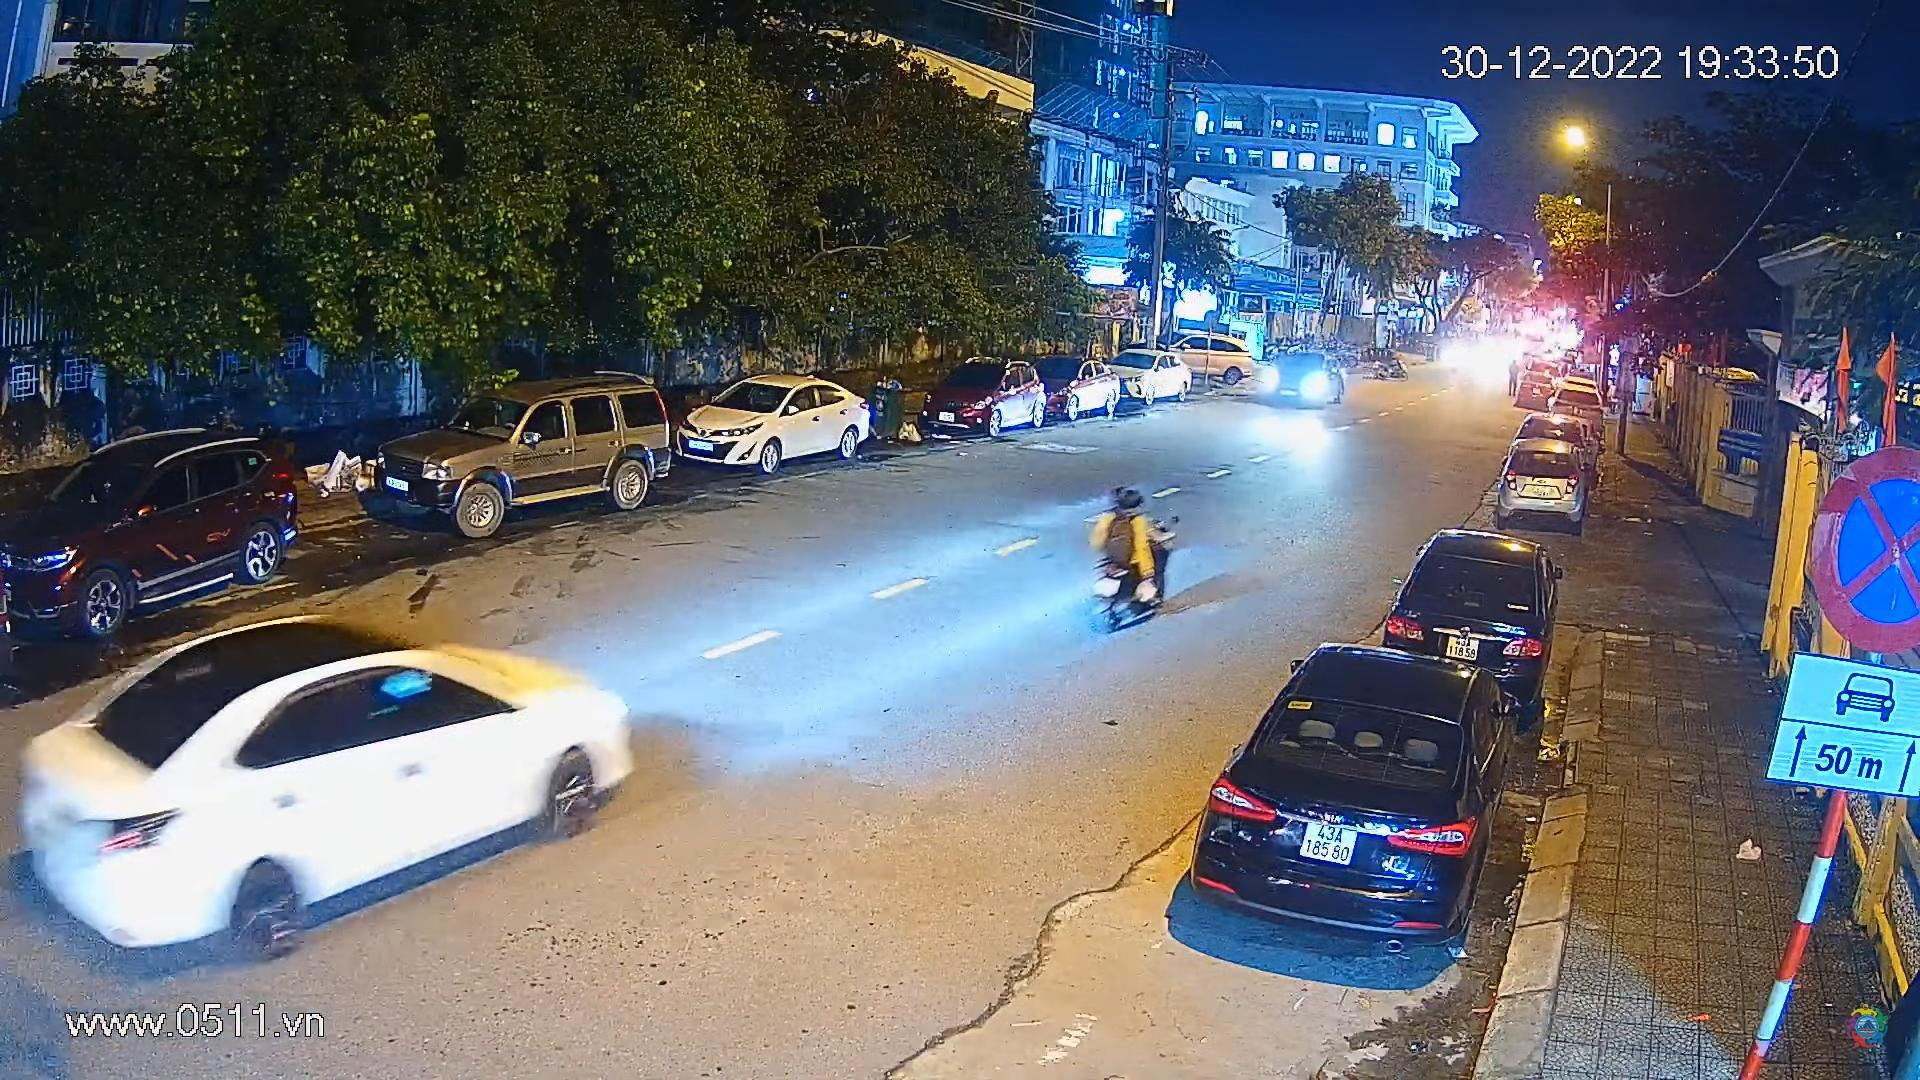car: (15, 612, 659, 971), (1188, 638, 1509, 949), (0, 418, 301, 637), (345, 371, 666, 538), (1379, 522, 1549, 725), (674, 363, 870, 475), (905, 348, 1054, 446), (1490, 435, 1588, 529), (1163, 326, 1258, 389), (1039, 348, 1118, 422), (1257, 348, 1349, 407), (1511, 414, 1601, 471), (1109, 348, 1195, 404), (1549, 381, 1606, 443), (1515, 367, 1556, 410)
motorcycle: (1079, 469, 1197, 650)
